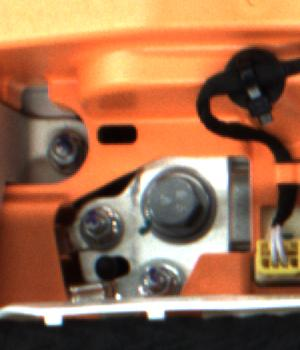nut_b: (140, 146, 229, 237)
screw_s: (74, 202, 118, 245), (35, 128, 77, 168), (138, 260, 176, 299)
